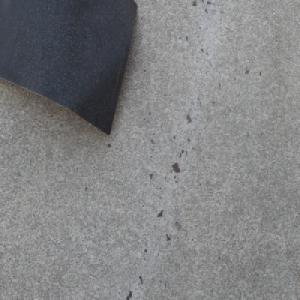PaintChip: (0, 0, 138, 137)
